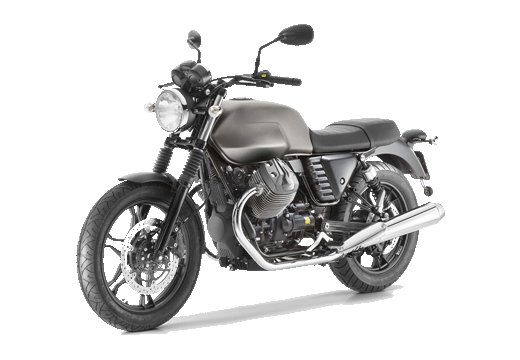Motorcycle: (44, 12, 450, 337)
